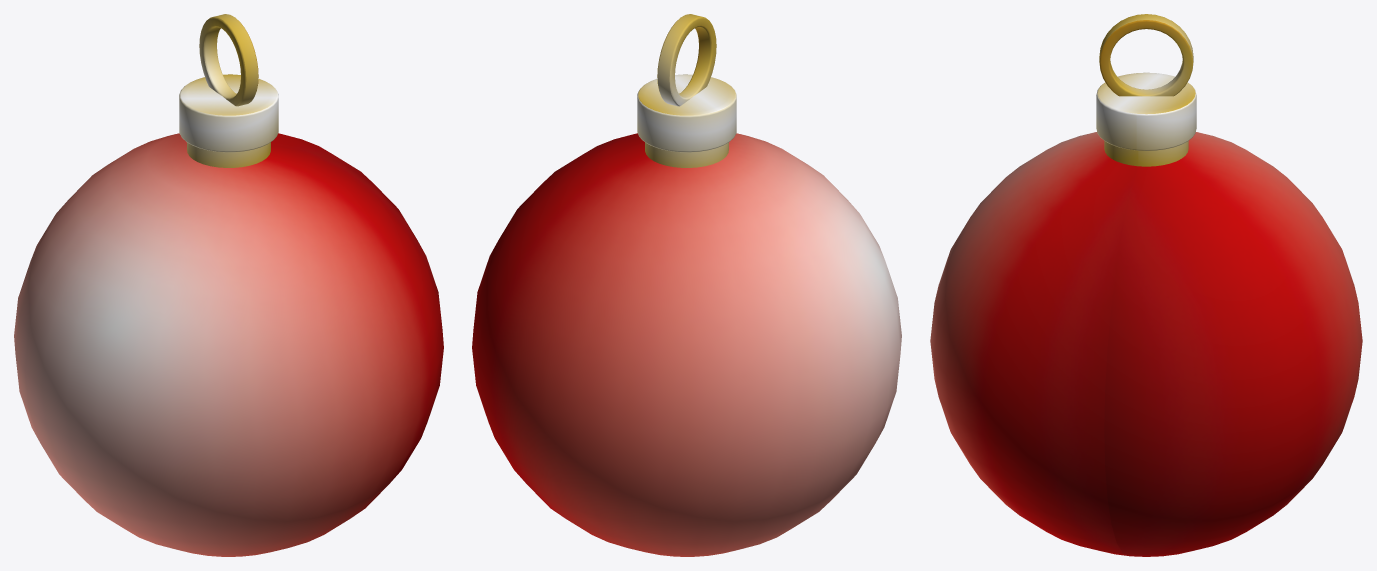
File: RED_Ball.fbx
3 renders of one model, left to right at view 1: azimuth 30°, elevation 25°; view 2: azimuth 150°, elevation 25°; view 3: azimuth 270°, elevation 25°, orthographic.
Parts seen in each view (by area): view 1: Sphere.003; view 2: Sphere.003; view 3: Sphere.003.
Boxes of the visible parts, x1,y1,x2,y2 form: Sphere.003: [14, 14, 443, 556]; Sphere.003: [472, 14, 901, 556]; Sphere.003: [930, 14, 1362, 556].
Size of the model in its own units: 88.16 by 117 by 88.16.
